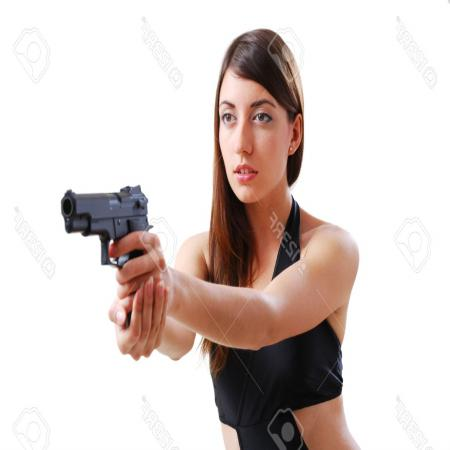Pistol: (61, 184, 153, 328)
